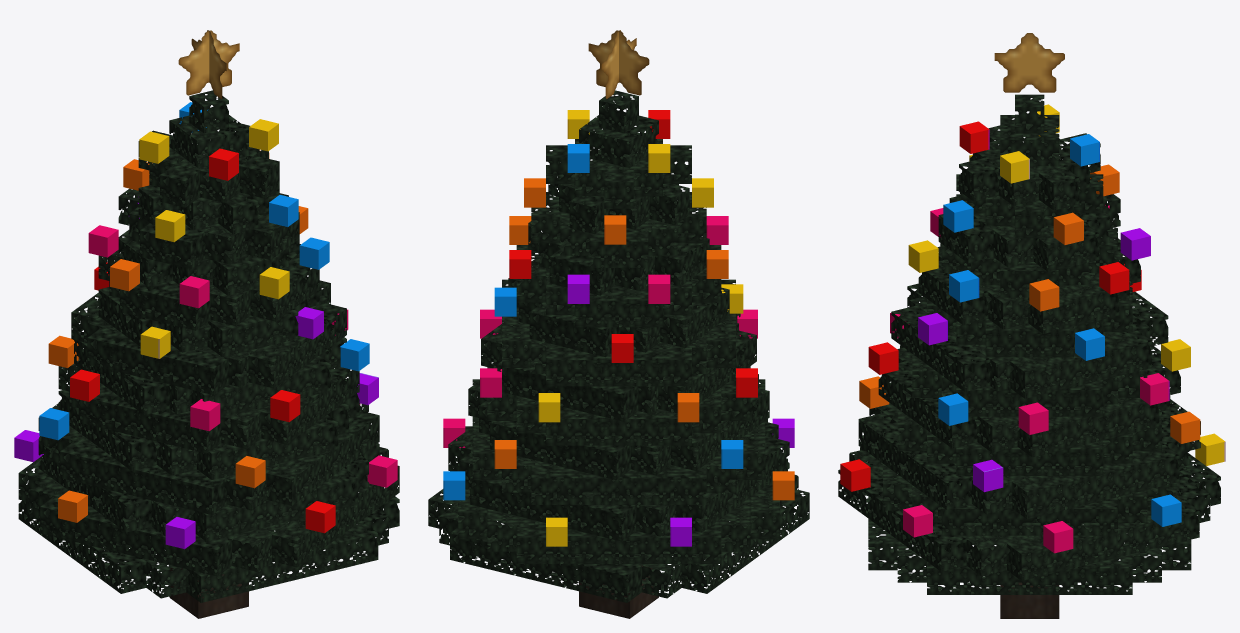
The model's file is cmas_tree.obj.
The picture shows the model from 3 angles, left to right: view 1: azimuth 30°, elevation 25°; view 2: azimuth 150°, elevation 25°; view 3: azimuth 270°, elevation 25°; orthographic projection.
Visible parts, largest first — view 1: Shape6, Shape32, Shape14, Shape75, Shape29, Shape3, Shape12, Shape26, Shape19, Shape15, Shape28, Shape71 (+63 smaller); view 2: Shape13, Shape31, Shape7, Shape70, Shape18, Shape27, Shape11, Shape12, Shape68, Shape4, Star1, Shape28 (+69 smaller); view 3: Shape16, Shape30, Shape5, Shape73, Shape24, Shape29, Shape12, Shape21, Shape9, Shape15, Shape71, Shape74 (+68 smaller).
Boxes of the visible parts, <box> form: Shape6: <box>40,496,231,576</box>; Shape32: <box>60,441,226,514</box>; Shape14: <box>186,522,378,602</box>; Shape75: <box>87,327,228,394</box>; Shape29: <box>266,410,379,505</box>; Shape3: <box>80,387,221,453</box>; Shape12: <box>29,438,388,571</box>; Shape26: <box>191,467,358,541</box>; Shape19: <box>197,413,338,479</box>; Shape15: <box>272,465,399,567</box>; Shape28: <box>49,403,368,510</box>; Shape71: <box>248,302,346,388</box>; Shape13: <box>516,525,721,563</box>; Shape31: <box>531,466,706,504</box>; Shape7: <box>450,526,641,602</box>; Shape70: <box>546,347,691,386</box>; Shape18: <box>546,406,691,445</box>; Shape27: <box>470,468,636,541</box>; Shape11: <box>490,412,630,479</box>; Shape12: <box>487,465,750,551</box>; Shape68: <box>497,355,638,421</box>; Shape4: <box>681,489,809,593</box>; Star1: <box>588,30,649,133</box>; Shape28: <box>502,382,735,492</box>; Shape16: <box>1007,500,1199,580</box>; Shape30: <box>1012,444,1179,518</box>; Shape5: <box>927,556,1132,594</box>; Shape73: <box>1010,330,1151,398</box>; Shape24: <box>941,496,1117,535</box>; Shape29: <box>858,413,971,509</box>; Shape12: <box>849,449,1210,576</box>; Shape21: <box>1017,396,1159,457</box>; Shape9: <box>956,437,1103,475</box>; Shape15: <box>838,469,966,571</box>; Shape71: <box>891,305,990,391</box>; Shape74: <box>956,377,1103,416</box>.
Size of the model in its own units: 3.26 by 5.43 by 3.29.
